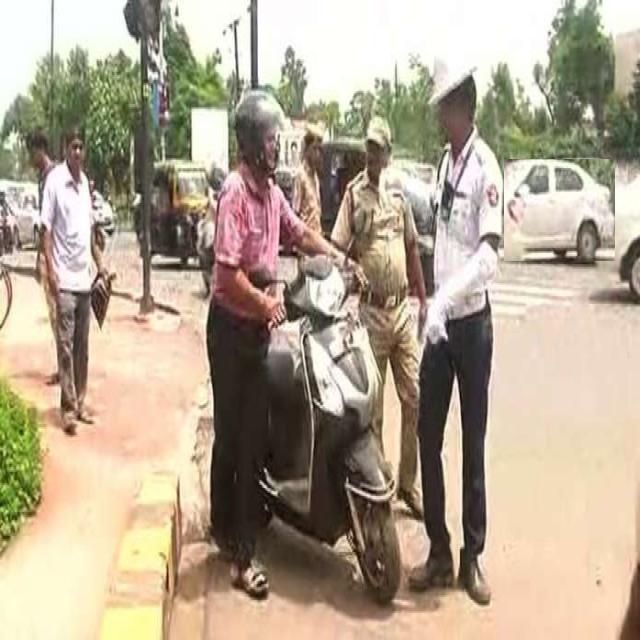autorickshaw: (151, 159, 209, 264)
motorcycle: (260, 255, 400, 602), (504, 159, 615, 261)
